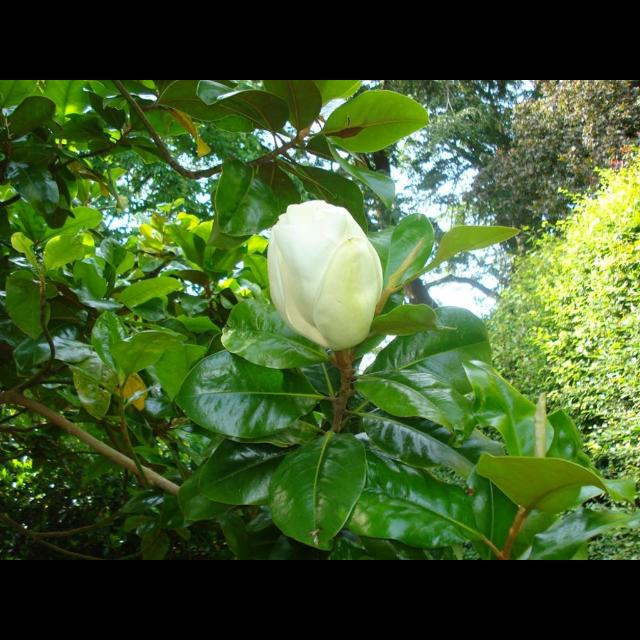Flower: (270, 200, 382, 350)
